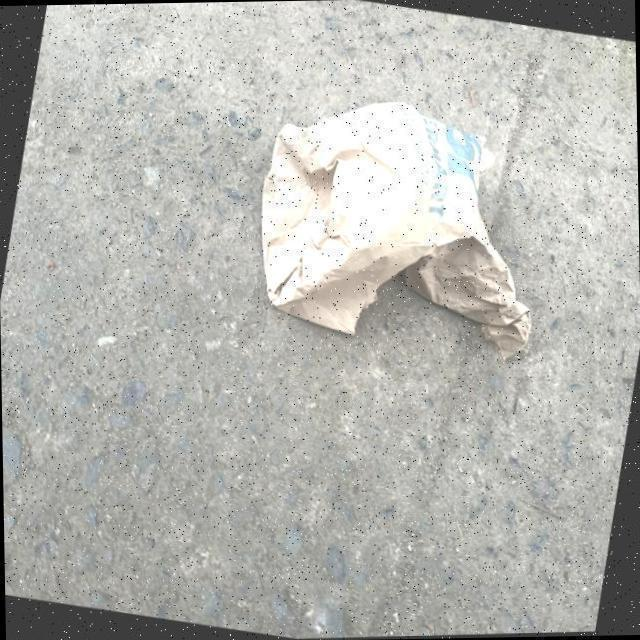Paper_Bag: (240, 78, 570, 368)
